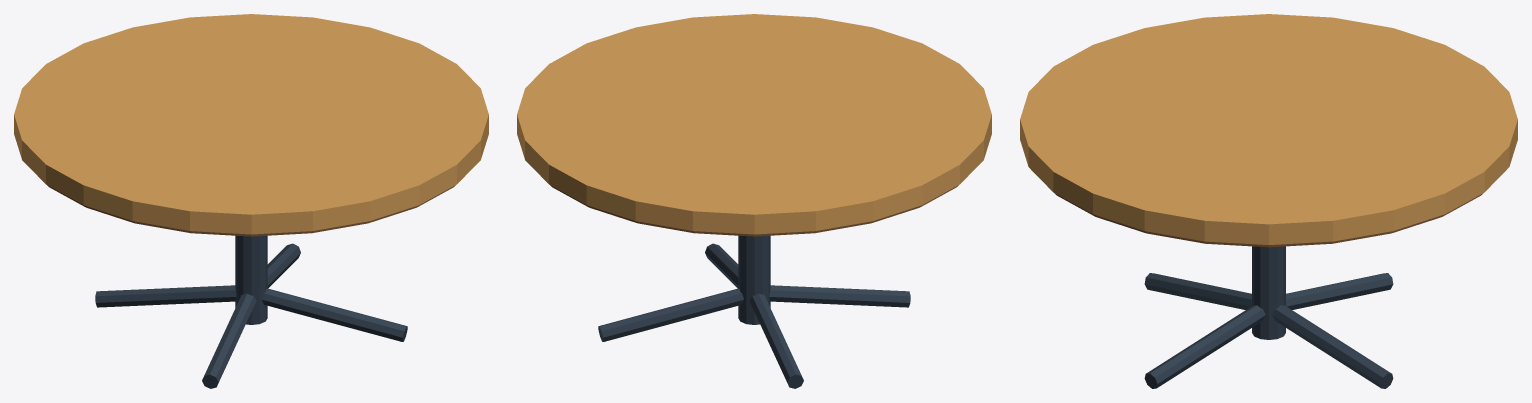
File: table_round.glb
3 views of the same model, side by side, from view 1: azimuth 30°, elevation 25°; view 2: azimuth 150°, elevation 25°; view 3: azimuth 270°, elevation 25° (orthographic). The views are drawn at different scales.
Parts seen in each view (by area): view 1: table_round__oak_top, table_round__metal, table_round__oak_dark; view 2: table_round__oak_top, table_round__metal, table_round__oak_dark; view 3: table_round__oak_top, table_round__metal, table_round__oak_dark.
Part boxes in pixels (box(x1,y1,x2,y2)): table_round__oak_top: box(14, 14, 488, 234); table_round__metal: box(95, 235, 407, 388); table_round__oak_dark: box(47, 185, 455, 236); table_round__oak_top: box(517, 14, 991, 234); table_round__metal: box(598, 235, 910, 388); table_round__oak_dark: box(550, 185, 958, 236); table_round__oak_top: box(1020, 14, 1517, 244); table_round__metal: box(1144, 246, 1393, 388); table_round__oak_dark: box(1054, 193, 1483, 247).
Bounding box in the file's own units: 1.52 × 0.7426 × 1.52.
